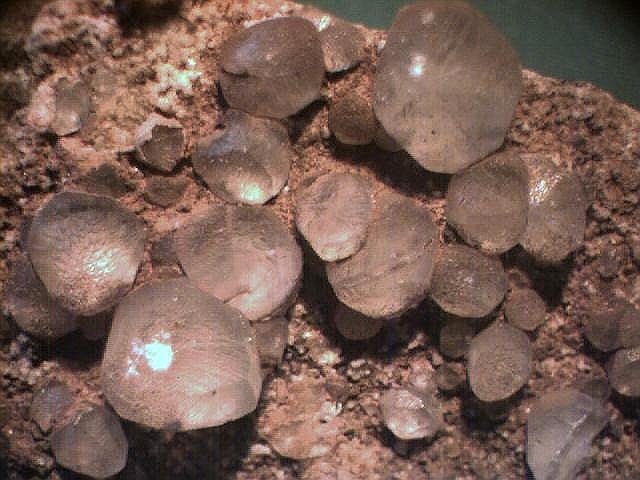calcite: (296, 151, 589, 416), (175, 112, 302, 322), (375, 1, 522, 172), (102, 281, 261, 432), (298, 175, 435, 319), (30, 193, 143, 314), (219, 17, 327, 120), (528, 373, 609, 480)
